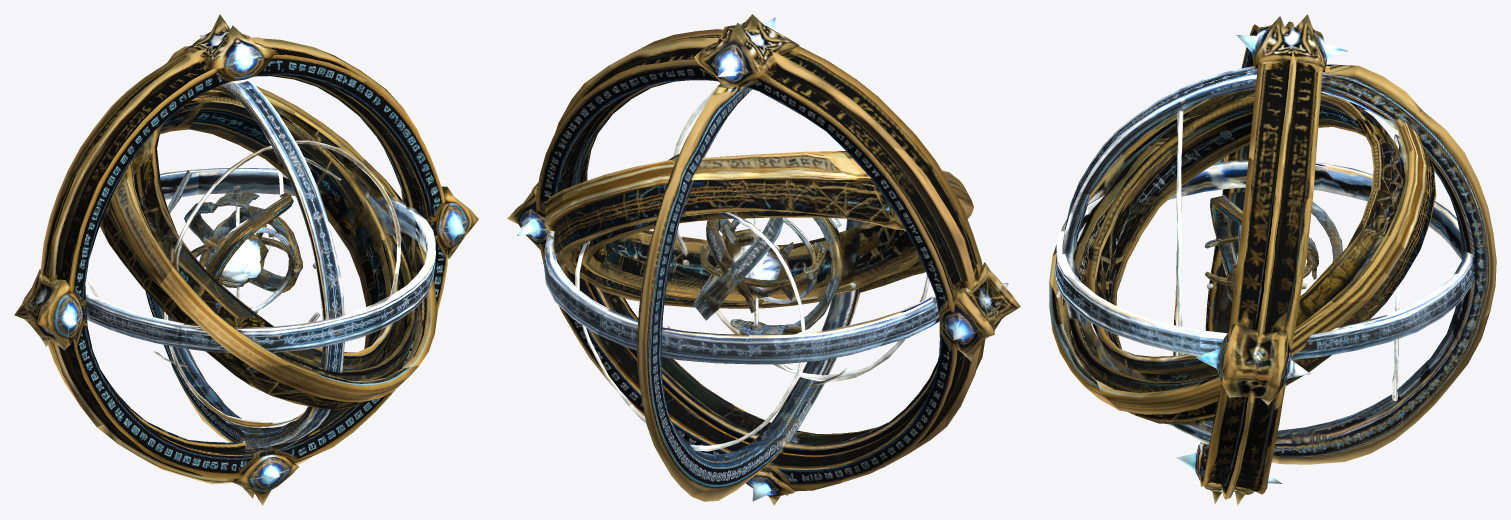
Rendered from asterion_sphere.glb.
The picture shows the model from 3 angles, left to right: view 1: azimuth 30°, elevation 25°; view 2: azimuth 150°, elevation 25°; view 3: azimuth 270°, elevation 25°; orthographic projection. The views are drawn at different scales.
Parts seen in each view (by area): view 1: master_ring1, inner_ring3, inner_ring2, inner_ring1, master_ring2, srodek-spirala, vertical_ring1, srodek, srodek-ring1, srodek_fragmenty, srodek_kowadlo, srodek-ring2; view 2: master_ring1, inner_ring3, master_ring2, inner_ring2, inner_ring1, srodek-spirala, srodek-ring1, srodek, vertical_ring2, vertical_ring1, srodek_kowadlo, srodek-ring2; view 3: master_ring1, master_ring2, inner_ring3, inner_ring2, inner_ring1, srodek-ring1, vertical_ring1, srodek-spirala, vertical_ring2, srodek_kowadlo.
Boxes of the visible parts, x1,y1,x2,y2 form: master_ring1: [14, 14, 478, 505]; inner_ring3: [99, 85, 437, 409]; inner_ring2: [132, 95, 398, 370]; inner_ring1: [85, 168, 435, 352]; master_ring2: [145, 46, 344, 448]; srodek-spirala: [184, 202, 301, 292]; vertical_ring1: [164, 140, 400, 427]; srodek: [203, 184, 268, 299]; srodek-ring1: [206, 193, 293, 313]; srodek_fragmenty: [153, 156, 341, 367]; srodek_kowadlo: [191, 233, 302, 287]; srodek-ring2: [251, 227, 290, 311]; master_ring1: [507, 14, 1020, 505]; inner_ring3: [544, 151, 973, 308]; master_ring2: [637, 83, 868, 501]; inner_ring2: [579, 211, 920, 304]; inner_ring1: [544, 231, 939, 364]; srodek-spirala: [693, 217, 783, 320]; srodek-ring1: [730, 217, 844, 334]; srodek: [723, 218, 794, 330]; vertical_ring2: [575, 212, 805, 451]; vertical_ring1: [673, 88, 929, 381]; srodek_kowadlo: [682, 229, 825, 287]; srodek-ring2: [725, 217, 817, 303]; master_ring1: [1176, 14, 1348, 505]; master_ring2: [1062, 64, 1496, 464]; inner_ring3: [1049, 89, 1436, 424]; inner_ring2: [1086, 92, 1405, 381]; inner_ring1: [1054, 160, 1473, 359]; srodek-ring1: [1210, 195, 1242, 277]; vertical_ring1: [1173, 110, 1183, 356]; srodek-spirala: [1226, 202, 1342, 302]; vertical_ring2: [1392, 134, 1405, 401]; srodek_kowadlo: [1205, 235, 1313, 289].
Size of the model in its own units: 1 by 1 by 0.8242.
1 material, 1 textured.
